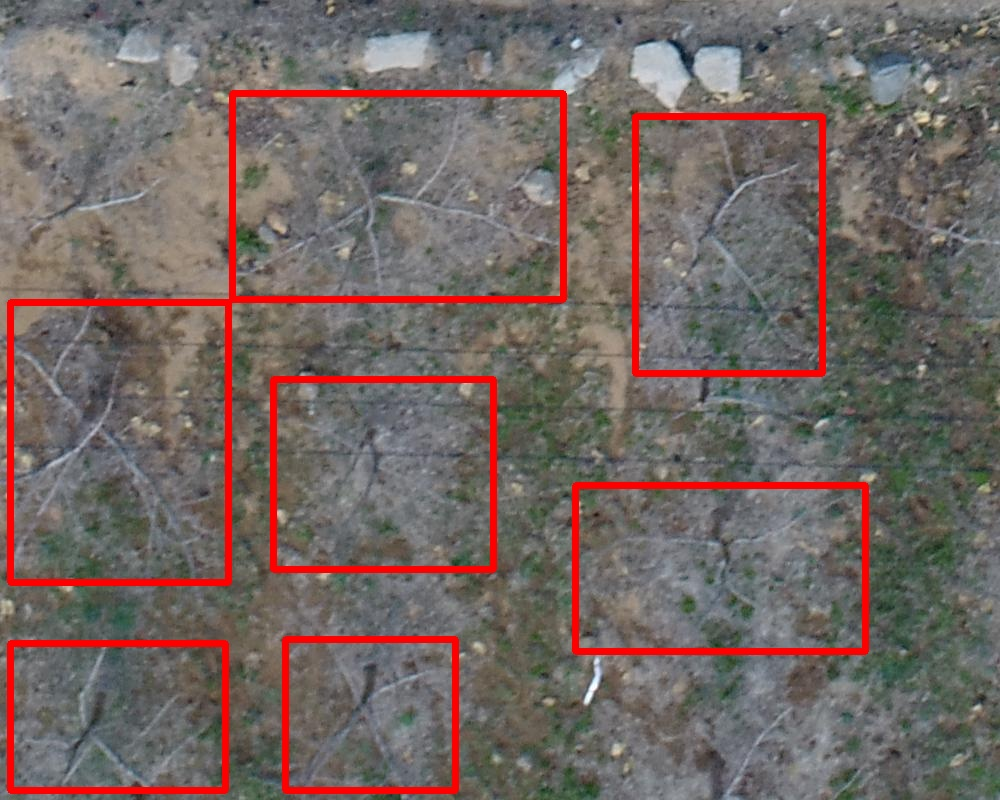apple: (232, 93, 563, 299), (10, 302, 228, 582), (575, 485, 865, 651), (635, 116, 822, 373), (273, 379, 493, 569), (10, 643, 225, 790), (285, 639, 455, 790)
